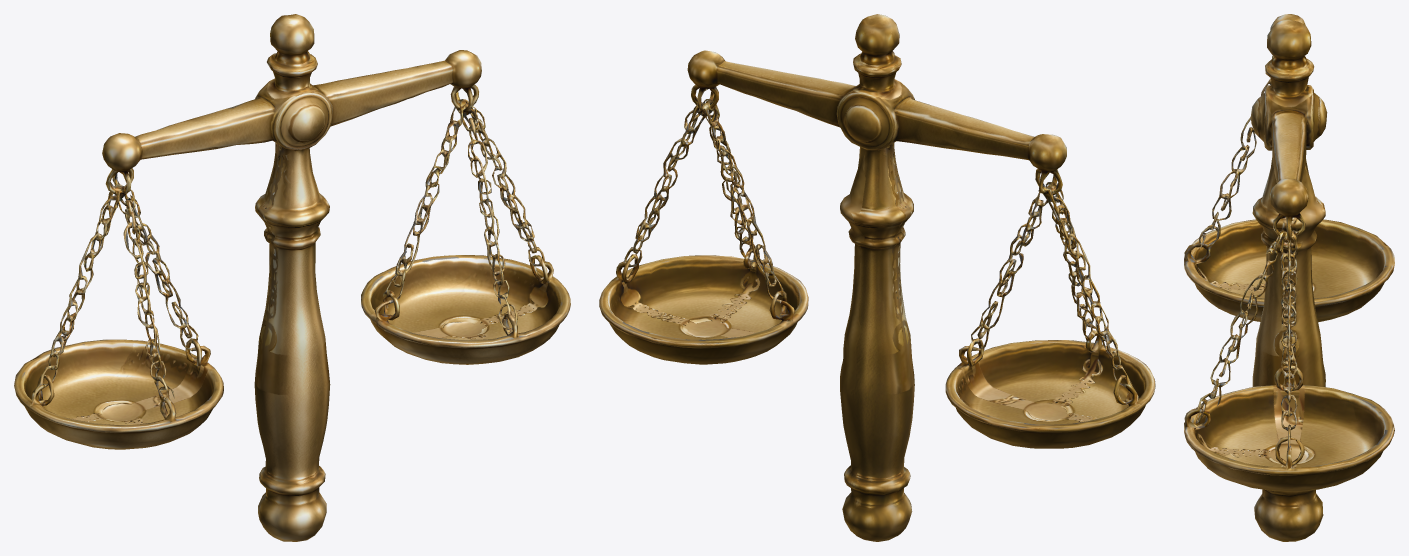
Rendered from BalanceScale.fbx.
3 renders of one model, left to right at view 1: azimuth 30°, elevation 25°; view 2: azimuth 150°, elevation 25°; view 3: azimuth 270°, elevation 25°, orthographic.
Parts seen in each view (by area): view 1: texture_mapping; view 2: texture_mapping; view 3: texture_mapping.
Boxes of the visible parts, left/top/right/bottom form: texture_mapping: left=14, top=14, right=570, bottom=541; texture_mapping: left=599, top=14, right=1155, bottom=541; texture_mapping: left=1184, top=14, right=1394, bottom=541.
Bounding box in the file's own units: 0.9972 × 0.3489 × 0.9411.
Materials: 1 (1 with a texture image).
